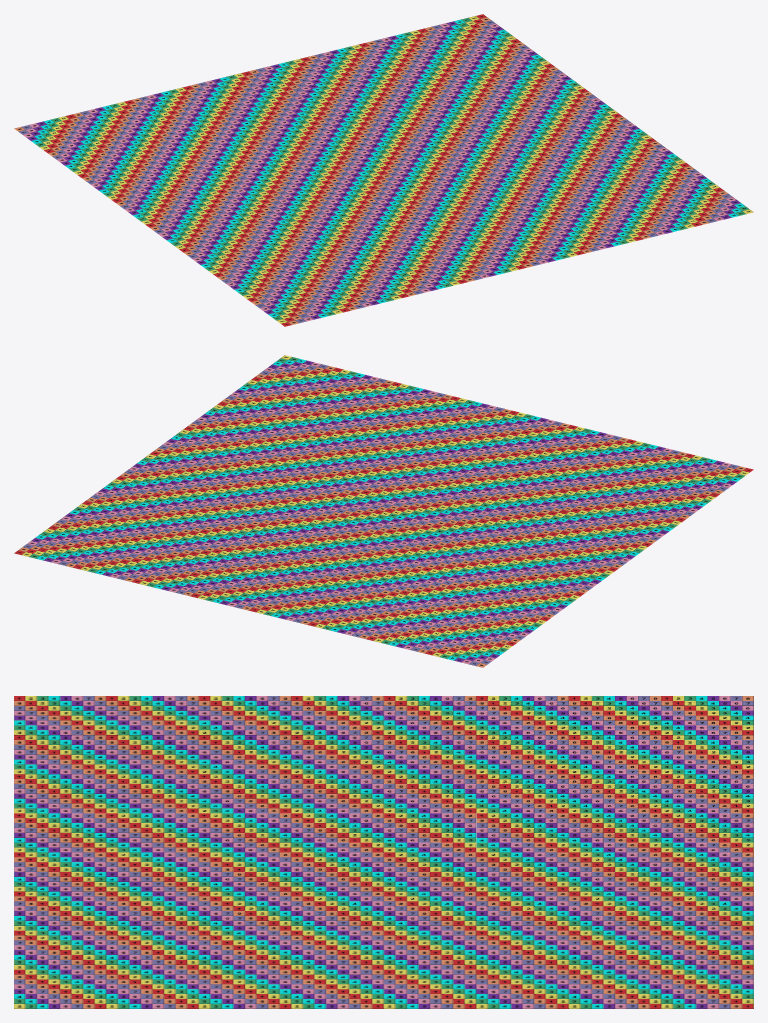
File: watertess_corner.fbx
3 views of the same model, one above another, from view 1: azimuth 30°, elevation 25°; view 2: azimuth 150°, elevation 25°; view 3: azimuth 270°, elevation 25° (orthographic). The views are drawn at different scales.
Visible parts, largest first — view 1: Corner; view 2: Corner; view 3: Corner.
Boxes of the visible parts, x1,y1,x2,y2 form: Corner: [14, 14, 753, 326]; Corner: [14, 355, 753, 667]; Corner: [14, 696, 753, 1008].
Bounding box in the file's own units: 512 × 8.34e-05 × 512.
